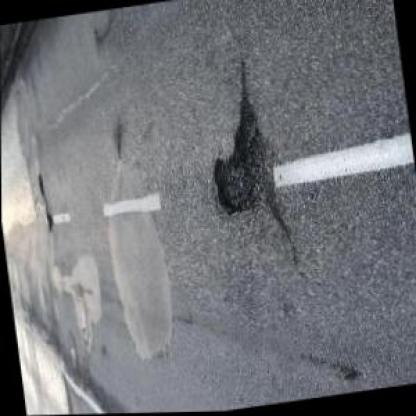pothole: (201, 99, 279, 224), (40, 208, 54, 232), (35, 170, 44, 196)
